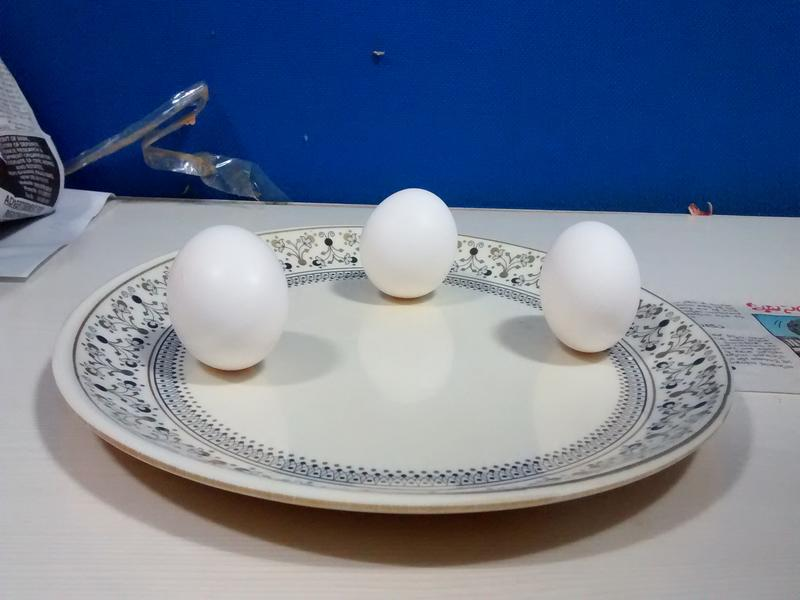egg: (172, 226, 289, 375)
